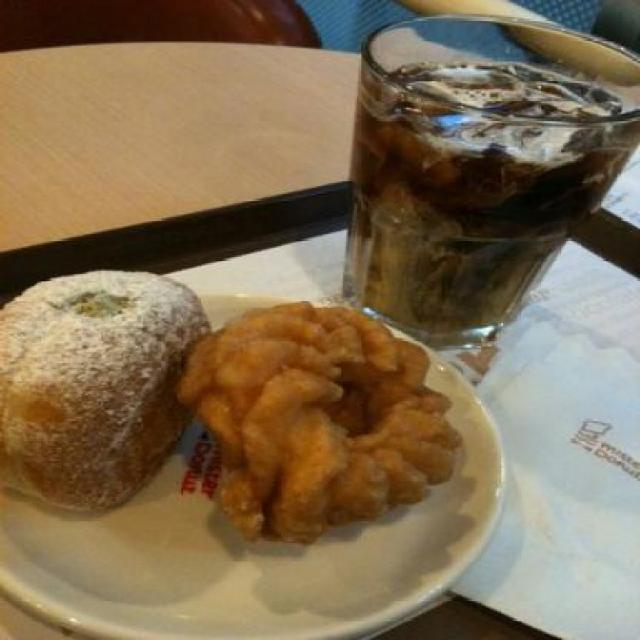Donuts: (5, 262, 190, 575)
